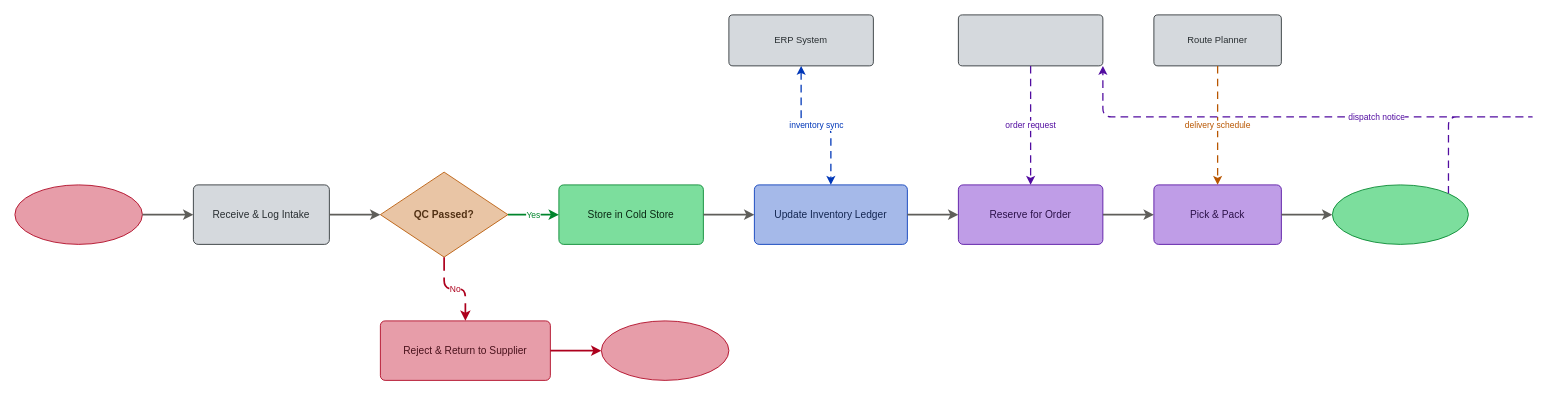
Image size: 1559x395. Some labels were removed from this diagram. Here are the shapes that lost their labels. From the top down, the box of each, then its label:
(958, 14, 1103, 66): Buyer Portal
(14, 184, 142, 244): Shipment Arrives
(1332, 184, 1468, 244): Shipped to Buyer
(601, 320, 729, 380): Returned
